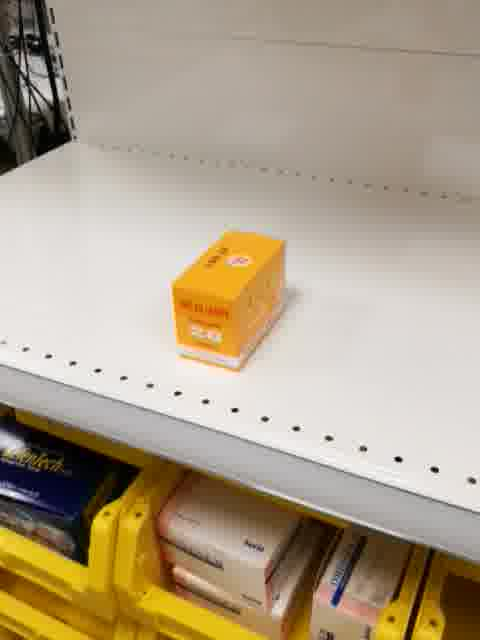jasminetea: (170, 226, 288, 373)
